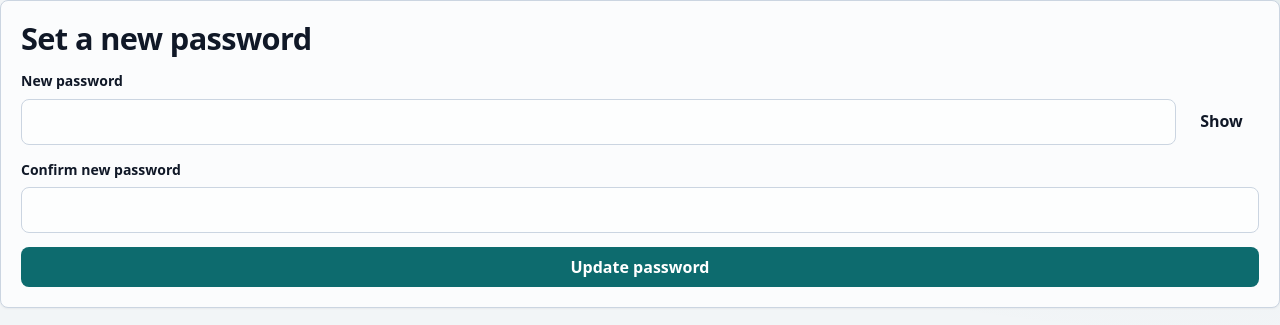
UpdatePasswordPage › updates a password only after the client confirms success
Type "NewPassw0rd!" into the password field labelled "New password" at (598, 122), box [21,98,1176,145]
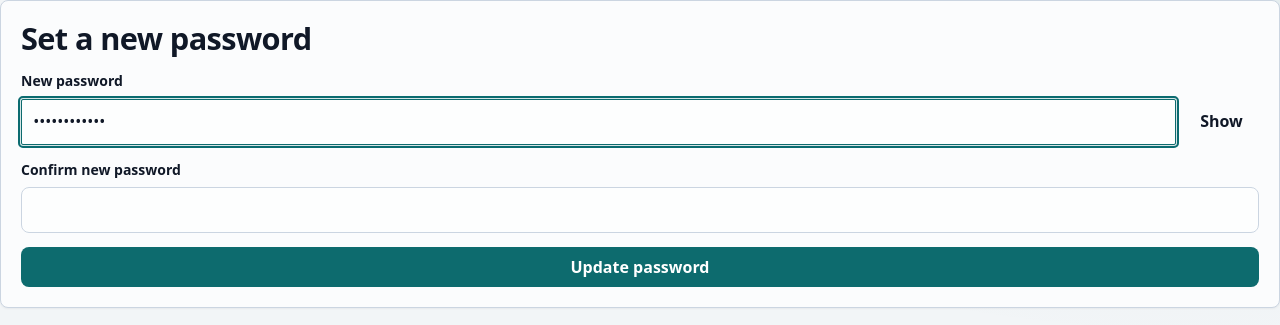
Type "NewPassw0rd!" into the password field labelled "Confirm new password" at (640, 210), box [21,187,1259,233]
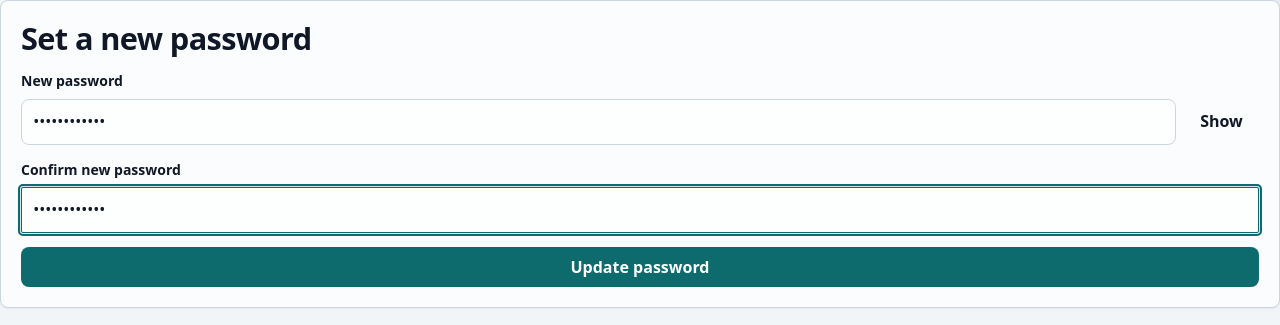
Click the button "Update password" at (640, 267), box [21,247,1259,287]
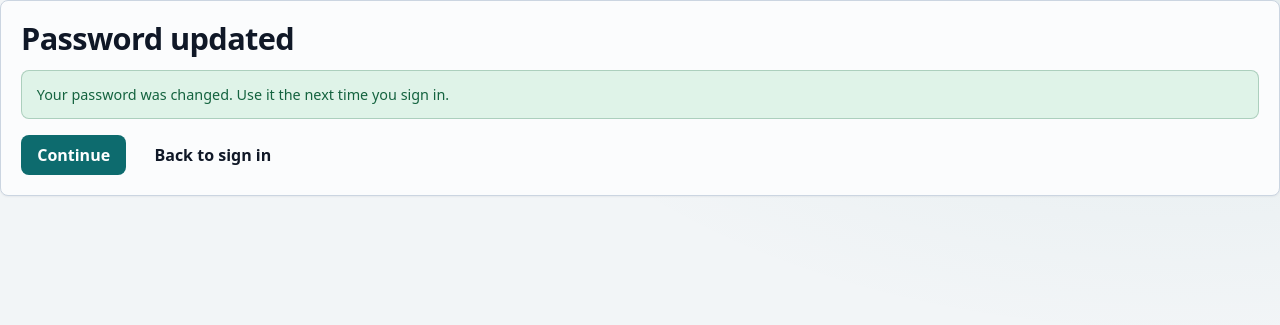
Expected: the text "Your password was changed. Use it the next time you sign in." is shown, [21,70,1259,119]
